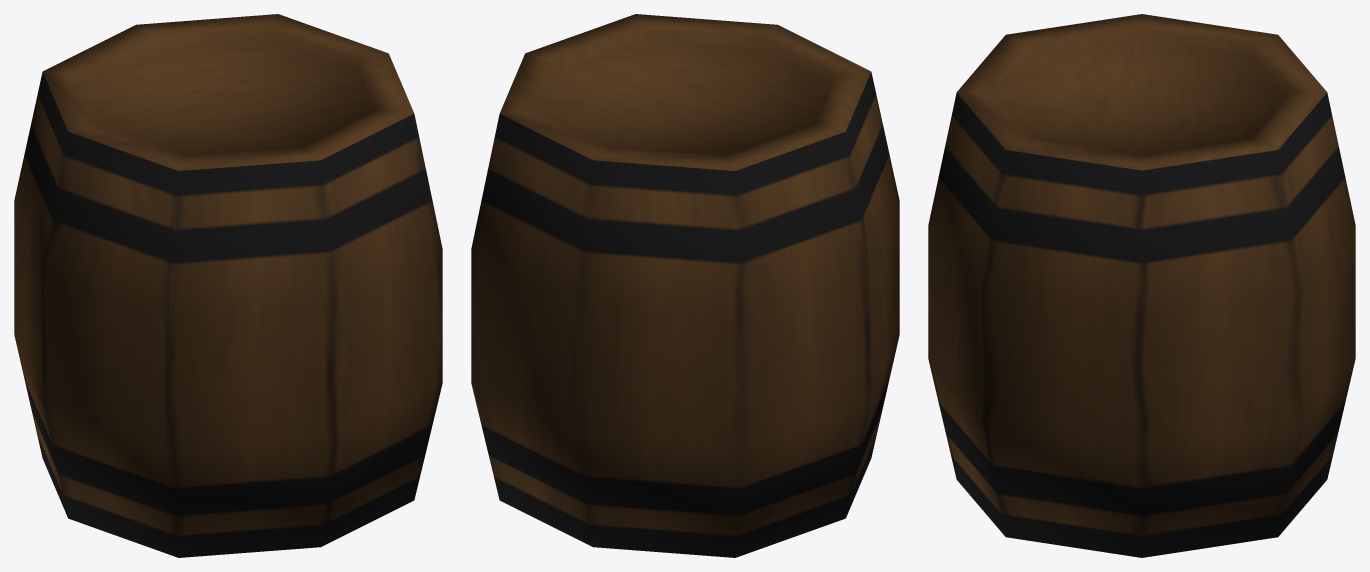
Rendered from powder_keg.glb.
The picture shows the model from 3 angles, left to right: view 1: azimuth 30°, elevation 25°; view 2: azimuth 150°, elevation 25°; view 3: azimuth 270°, elevation 25°; orthographic projection.
Parts seen in each view (by area): view 1: Cube; view 2: Cube; view 3: Cube.
Boxes of the visible parts, box(x1,y1,x2,y2) form: Cube: box(14, 14, 442, 557); Cube: box(471, 14, 899, 557); Cube: box(928, 14, 1355, 557).
Bounding box in the file's own units: 2 × 2 × 2.
Materials: 1 (1 with a texture image).
